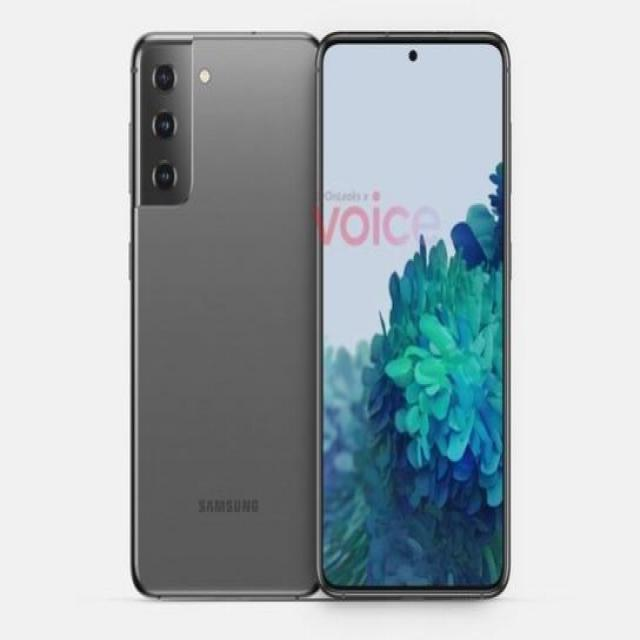lens: (145, 50, 189, 209)
phone: (321, 28, 514, 601), (129, 31, 317, 604)
